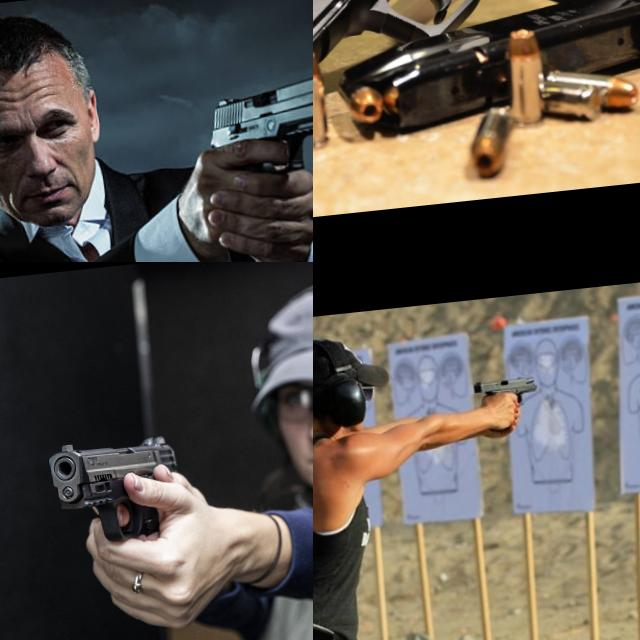handgun: (313, 0, 640, 185), (44, 429, 186, 551), (197, 64, 313, 181), (468, 372, 543, 409)
